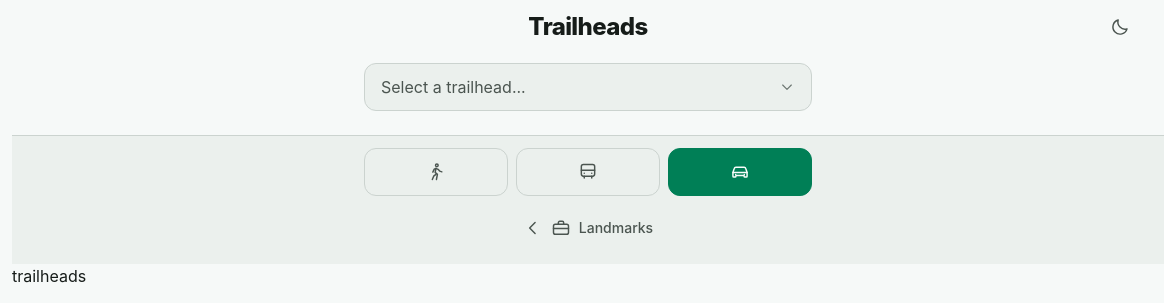
Test: TrailheadFinder › Navigation › navigates to landmarks when the nav control is used
The image size is (1164, 303).
Check: the text with test id "current-view" reads "trailheads", box [12,266,86,286]
What coordinates should you click on to do the following:
click the button with aria-label "Back to Landmarks"
I would click on:
 (588, 228)
Its box is [364,204,812,252].
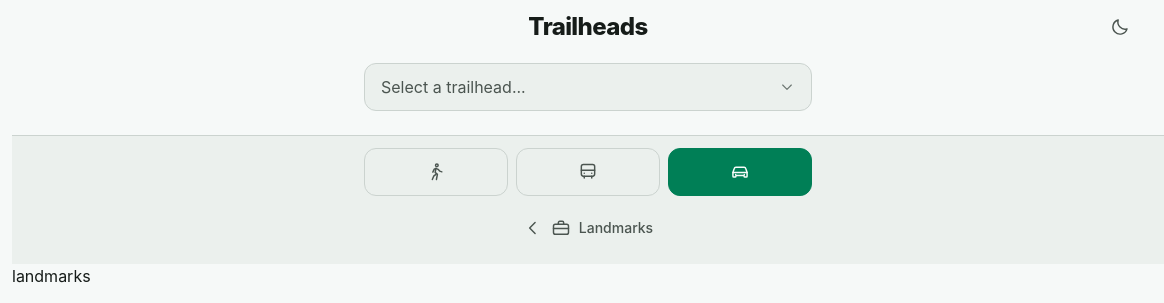
Check: the text with test id "current-view" reads "landmarks", box [12,266,91,286]
